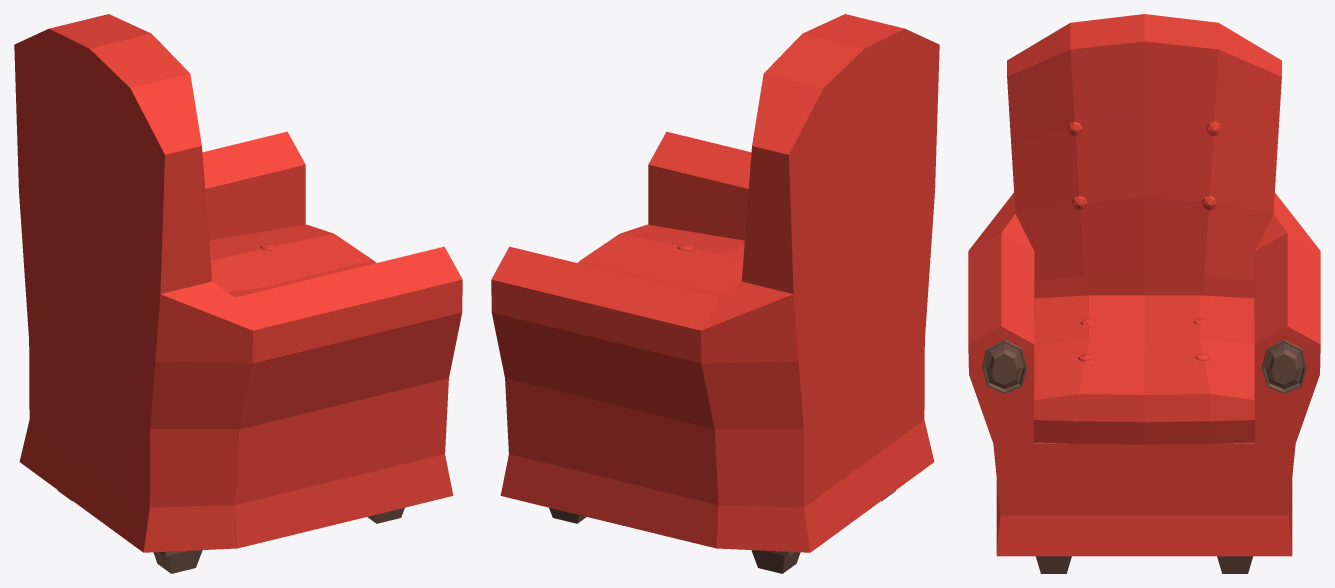
File: armchair.obj
The picture shows the model from 3 angles, left to right: view 1: azimuth 30°, elevation 25°; view 2: azimuth 150°, elevation 25°; view 3: azimuth 270°, elevation 25°; orthographic projection. The views are drawn at different scales.
Visible parts, largest first — view 1: Armchair_Cube.025; view 2: Armchair_Cube.025; view 3: Armchair_Cube.025.
Boxes of the visible parts, x1,y1,x2,y2 form: Armchair_Cube.025: [14, 14, 462, 573]; Armchair_Cube.025: [491, 14, 939, 573]; Armchair_Cube.025: [968, 14, 1320, 573].
Bounding box in the file's own units: 6.32 × 9.99 × 7.14.
